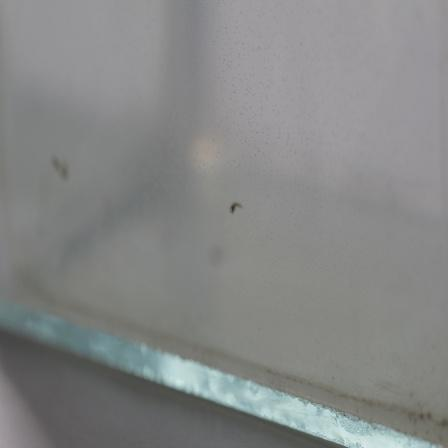Jentik-Nyamuk: (225, 198, 247, 217)
